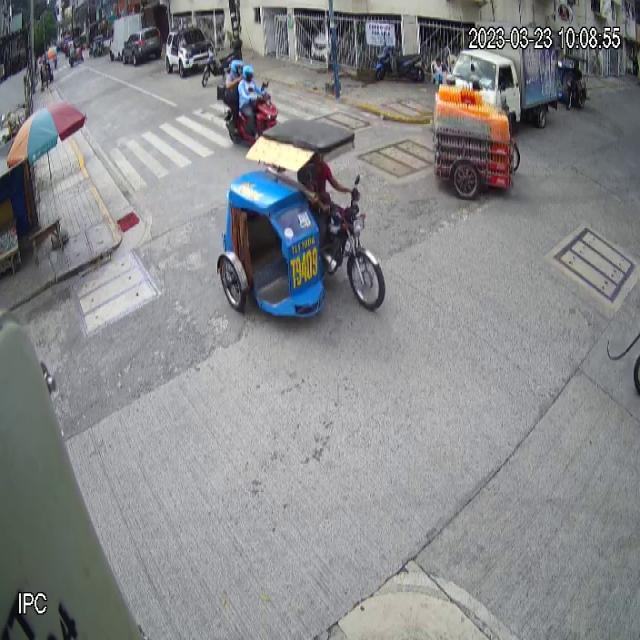Motorcycle: (225, 79, 279, 143), (375, 40, 425, 84)
Tricycle: (217, 116, 386, 317)
Truck: (450, 21, 560, 127)
